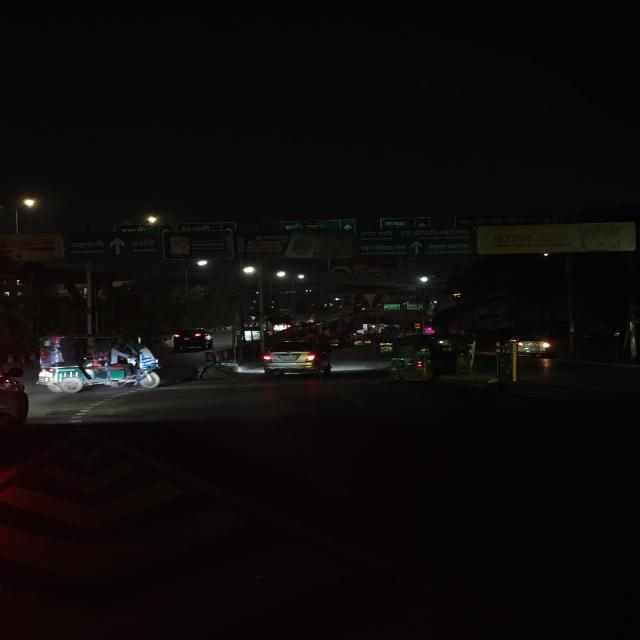car: (258, 339, 337, 379), (170, 327, 215, 352), (511, 334, 551, 358)
cng: (384, 336, 454, 383), (375, 339, 395, 355)
rickshaw: (32, 334, 168, 396), (352, 333, 367, 348)
